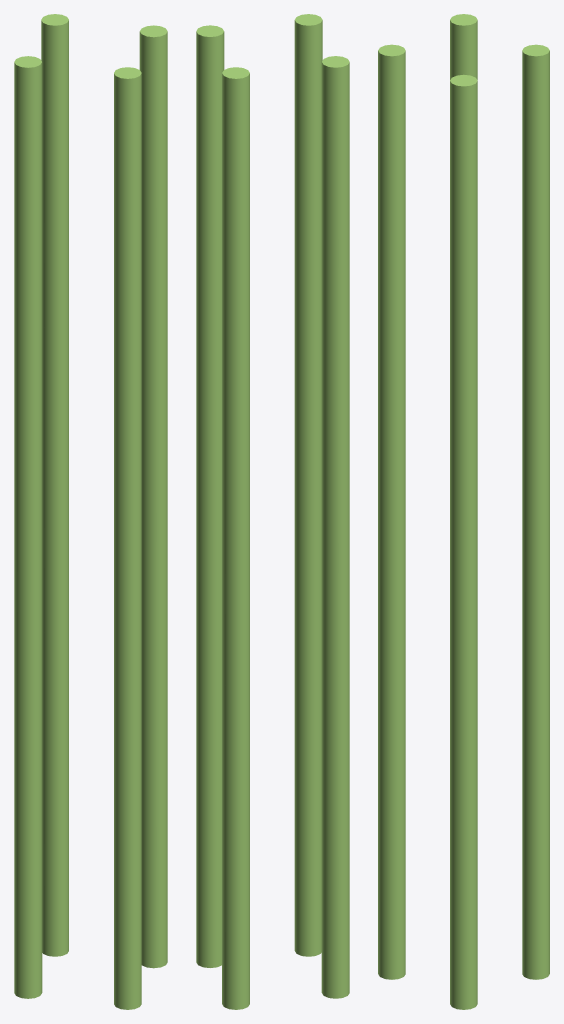
File: Pillar_02_x3_Lod0.fbx
3 views of the same model, side by side, from view 1: azimuth 30°, elevation 25°; view 2: azimuth 150°, elevation 25°; view 3: azimuth 270°, elevation 25° (orthographic).
Parts seen in each view (by area): view 1: Pillar_02_x3_Lod0; view 2: Pillar_02_x3_Lod0; view 3: Pillar_02_x3_Lod0.
Part boxes in pixels (box(x1,y1,x2,y2)): Pillar_02_x3_Lod0: box(14, 14, 167, 1009); Pillar_02_x3_Lod0: box(196, 14, 349, 1009); Pillar_02_x3_Lod0: box(378, 14, 549, 1009).
Bounding box in the file's own units: 146 × 867 × 146.
